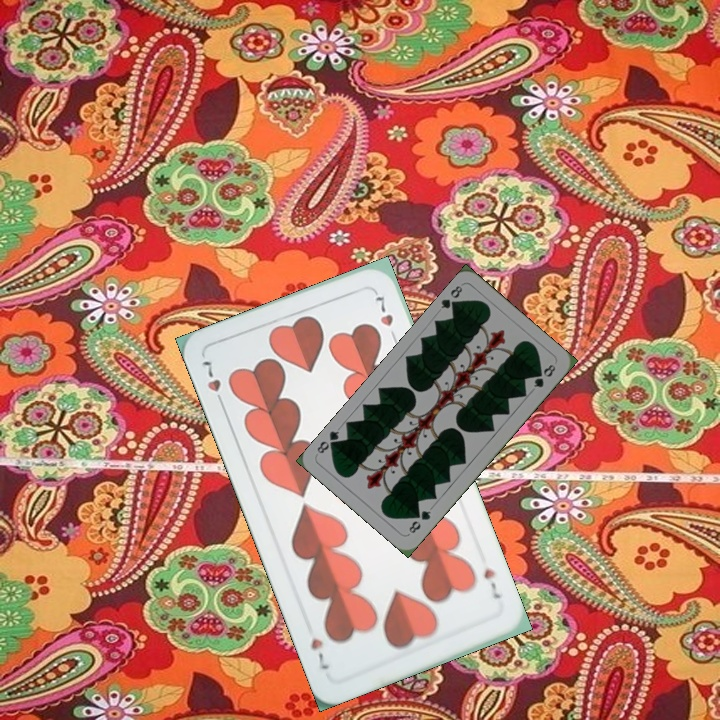G8: (436, 281, 465, 313), (404, 506, 434, 536)
H7: (197, 356, 228, 410), (479, 564, 504, 602)
